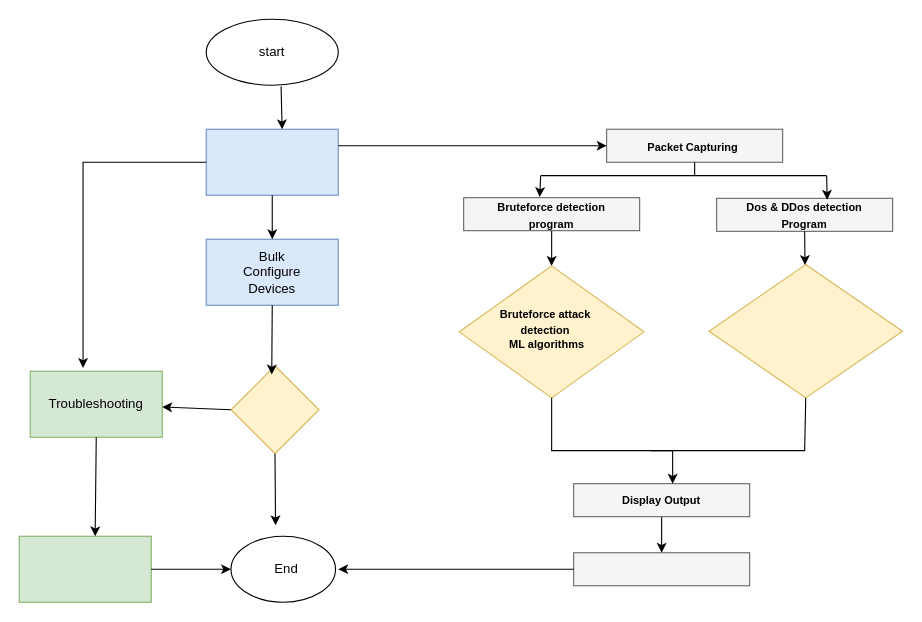
The diagram is 922 pixels wide and 622 high, and some of its shapes have lost their labels. Each missing label, with the centre of its shape:
"DDOS attack detection and packet deep analysis ML algorithms" belongs at pixel 805 330.
"Errors" belongs at pixel 274 409.
"Generate analysis report" belongs at pixel 661 569.
"Network Setup" belongs at pixel 271 161.
"Self Healing" belongs at pixel 84 568.
